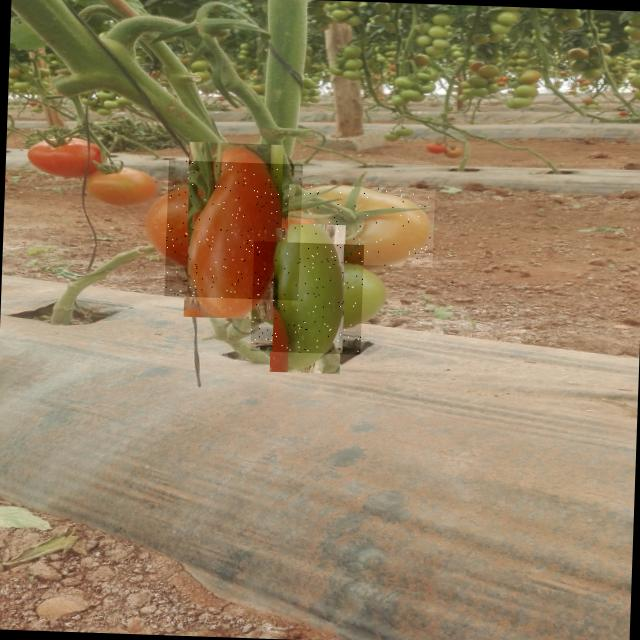Ripe Tomato: (164, 160, 302, 300)
Unripe Tomato: (250, 240, 364, 354), (286, 184, 435, 267)
